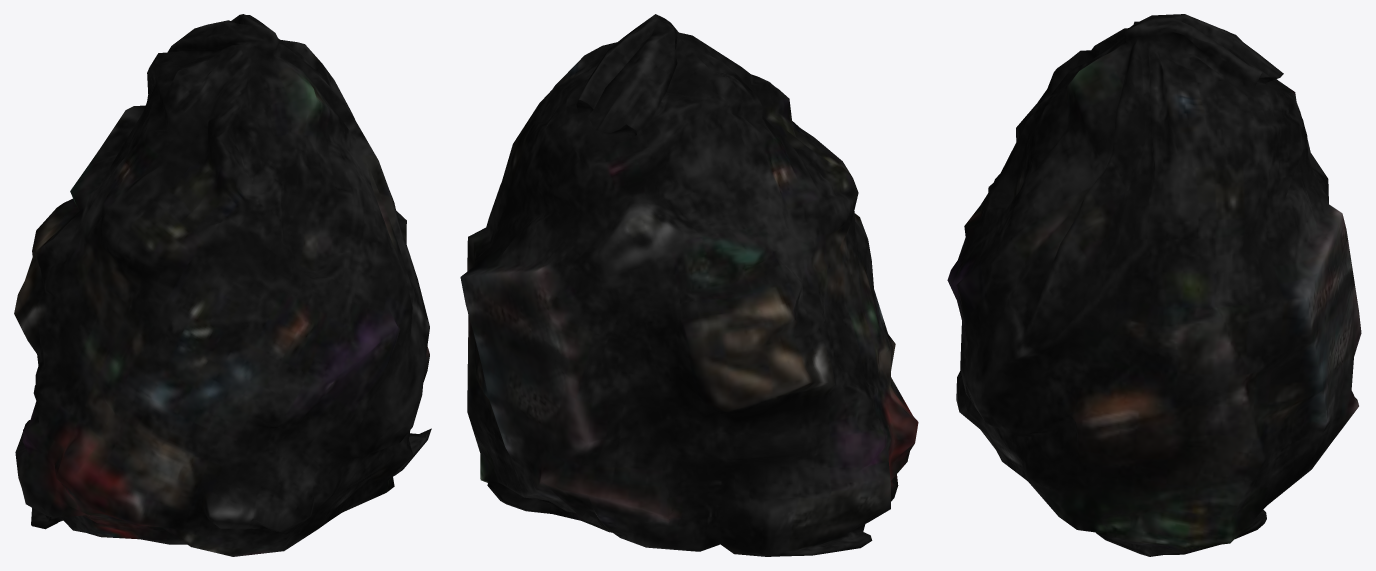
The model's file is trashbag.lod1.glb.
The picture shows the model from 3 angles, left to right: view 1: azimuth 30°, elevation 25°; view 2: azimuth 150°, elevation 25°; view 3: azimuth 270°, elevation 25°; orthographic projection. The views are drawn at different scales.
Visible parts, largest first — view 1: trashbag; view 2: trashbag; view 3: trashbag.
Boxes of the visible parts, bbox=[...] form: trashbag: bbox=[14, 14, 431, 556]; trashbag: bbox=[460, 14, 918, 556]; trashbag: bbox=[947, 14, 1361, 556].
Size of the model in its own units: 0.5281 by 0.5731 by 0.4629.
1 material, 1 textured.
